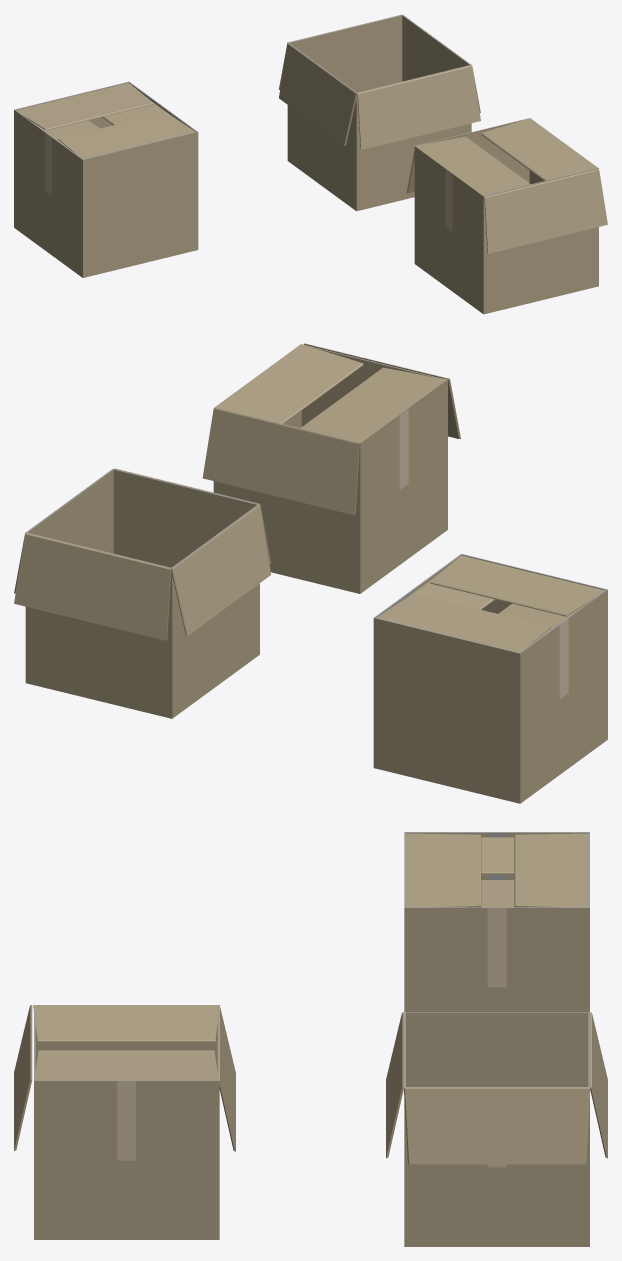
File: cardboardboxfbx.fbx
3 renders of one model, top to bottom at view 1: azimuth 30°, elevation 25°; view 2: azimuth 150°, elevation 25°; view 3: azimuth 270°, elevation 25°, orthographic. The views are drawn at different scales.
Visible parts, largest first — view 1: pCube7, pCube4, pCube6, polySurface9, polySurface11, polySurface17 (×2), polySurface7, polySurface15, polySurface18, polySurface12, polySurface10; view 2: pCube7, pCube6, pCube4, polySurface13, polySurface6, polySurface17 (×2), polySurface7, polySurface15, polySurface18, polySurface12, polySurface10, polySurface11; view 3: pCube4, pCube6, pCube7, polySurface8, polySurface17 (×2), polySurface18, polySurface15, polySurface6, polySurface11, polySurface9, polySurface13, polySurface10 (+1 smaller).
Boxes of the visible parts, x1,y1,x2,y2 form: pCube7: (14,81,198,277); pCube4: (414,118,598,314); pCube6: (287,15,471,211); polySurface9: (357,65,480,150); polySurface11: (484,169,607,253); polySurface17 (×2): (17,83,195,159); polySurface7: (279,43,357,145); polySurface15: (481,118,597,180); polySurface18: (415,136,530,196); polySurface12: (102,101,166,125); polySurface10: (33,120,99,148); pCube7: (373,554,607,803); pCube6: (25,469,259,718); pCube4: (213,344,447,593); polySurface13: (202,407,359,515); polySurface6: (14,533,170,640); polySurface17 (×2): (377,555,604,652); polySurface7: (171,504,270,635); polySurface15: (215,344,363,423); polySurface18: (300,367,447,444); polySurface12: (410,580,495,609); polySurface10: (498,603,582,639); polySurface11: (304,343,460,438); pCube4: (34,1008,219,1239); pCube6: (404,1012,589,1246); pCube7: (404,832,589,1011); polySurface8: (403,1087,590,1164); polySurface17 (×2): (406,833,588,907); polySurface18: (33,1005,219,1042); polySurface15: (34,1050,218,1080); polySurface6: (589,1012,607,1158); polySurface11: (14,1005,32,1150); polySurface9: (386,1012,404,1158); polySurface13: (217,1005,235,1151); polySurface10: (481,837,514,874).
Size of the model in its own units: 20.31 by 5.74 by 19.39.
